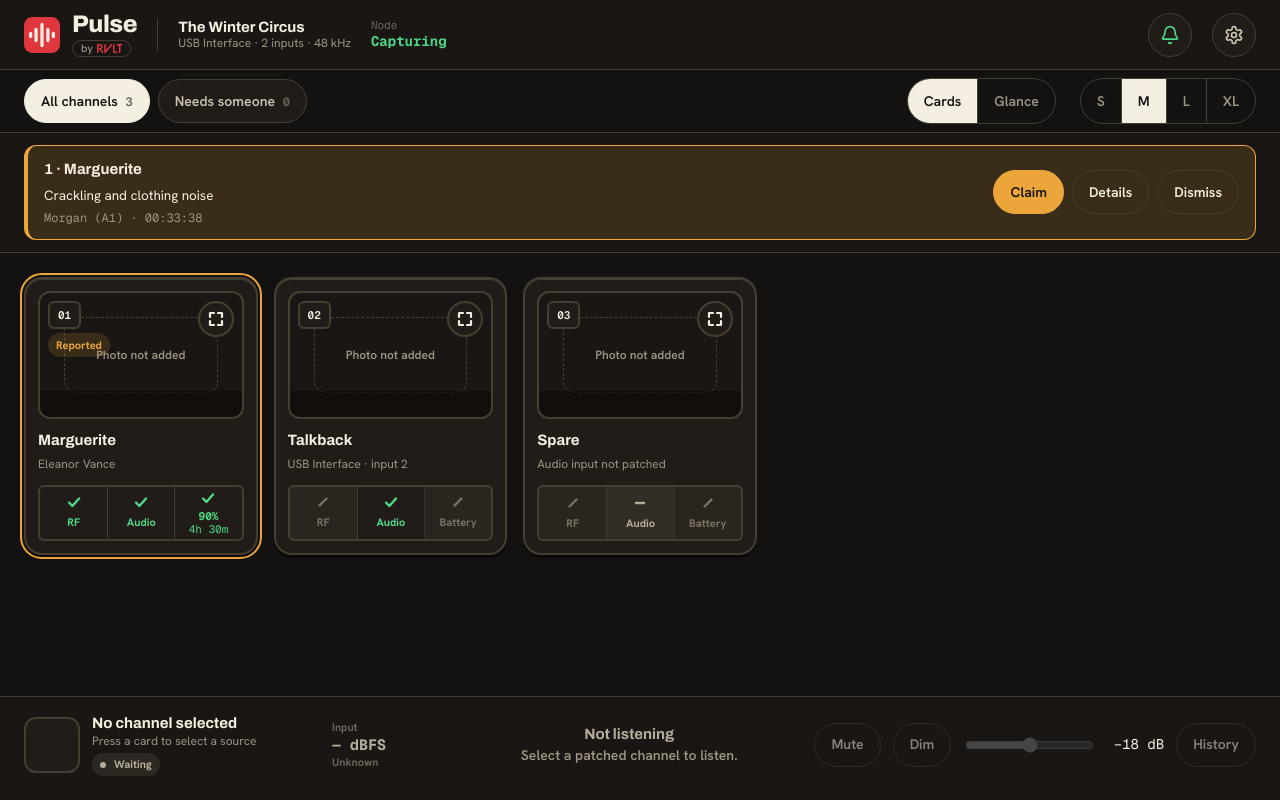
it: Live channel grid › shows an incoming report to the A2 as a banner and a pulsing card until claimed
The image size is (1280, 800).
Expected: the text "Crackling and clothing noise" is shown, [44,184,214,205]
Expected: the text "Reported" is shown, [48,333,110,357]
What coordinates should you click on to do the following:
click the button "Claim"
I would click on:
 (1029, 192)
Its box is [994,170,1064,214].
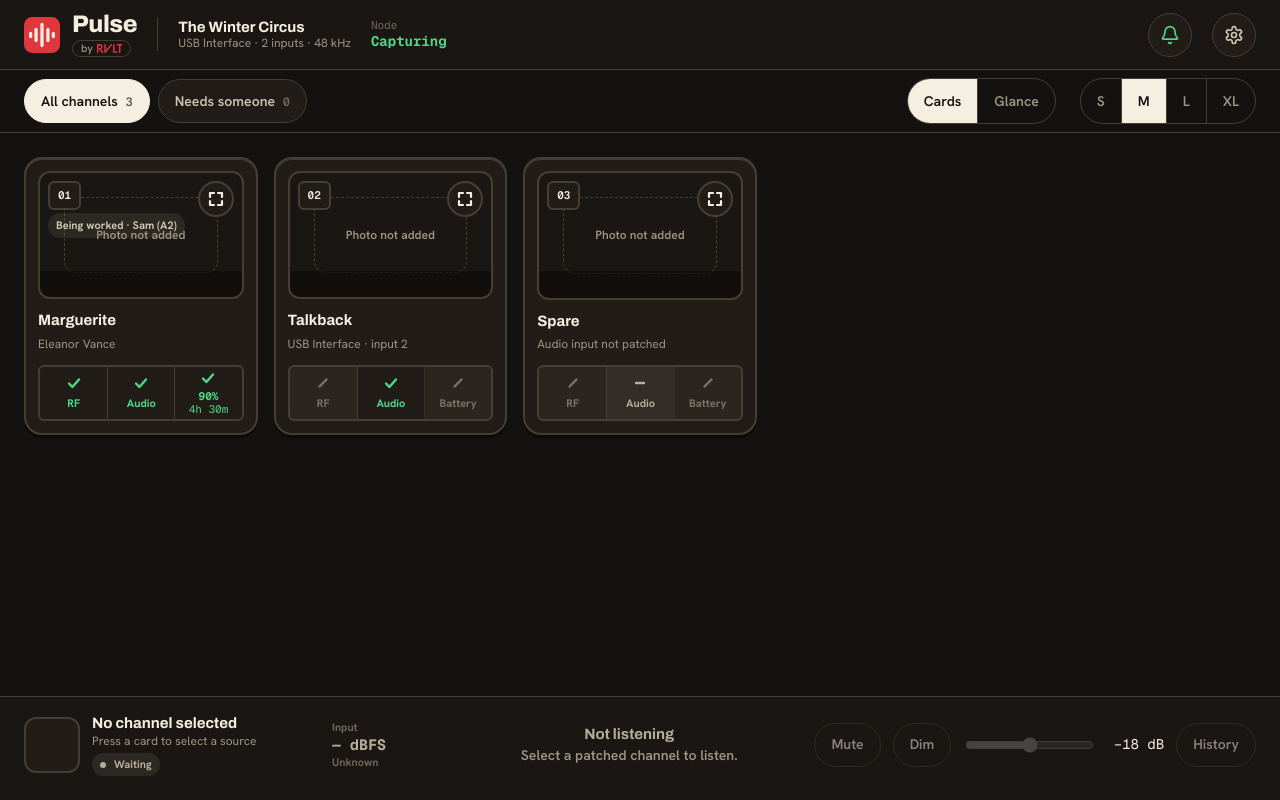
Expected: the text "Being worked · Sam (A2)" is shown, [48,213,185,238]
